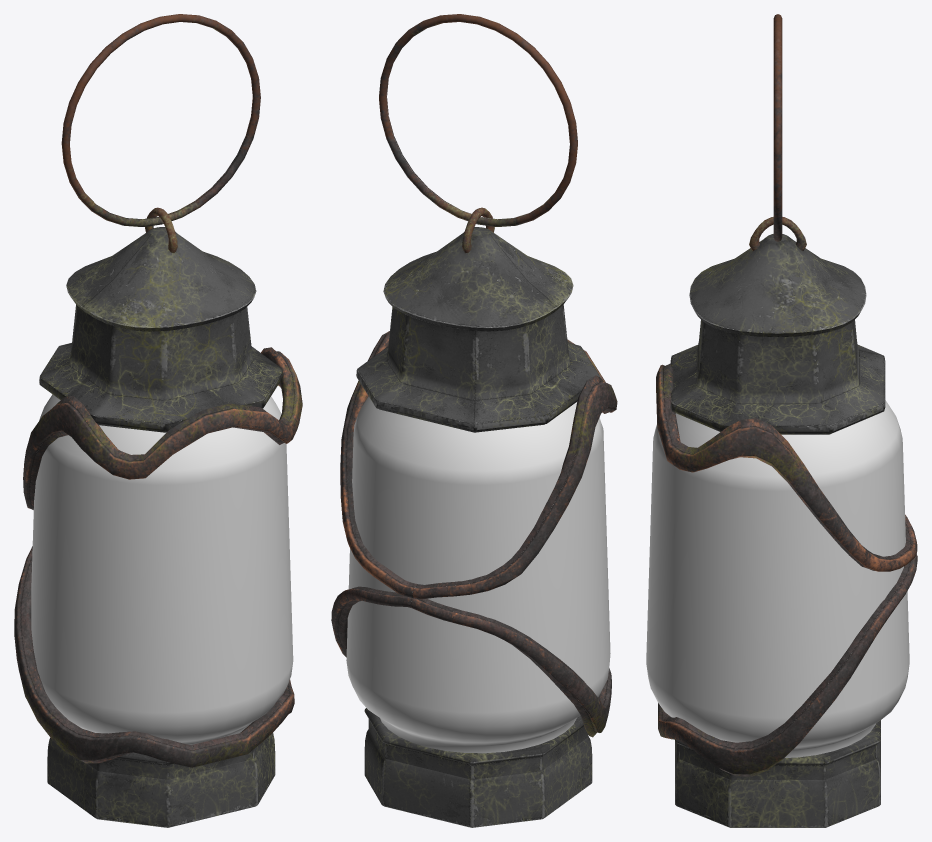
File: LanternBlender.fbx
3 views of the same model, side by side, from view 1: azimuth 30°, elevation 25°; view 2: azimuth 150°, elevation 25°; view 3: azimuth 270°, elevation 25° (orthographic).
Visible parts, largest first — view 1: Lantern; view 2: Lantern; view 3: Lantern.
Boxes of the visible parts, <box> form: Lantern: <box>14,14,302,827</box>; Lantern: <box>331,14,617,827</box>; Lantern: <box>646,14,917,827</box>.
Bounding box in the file's own units: 26.27 × 75.52 × 24.44.
Materials: 2 (1 with a texture image).
